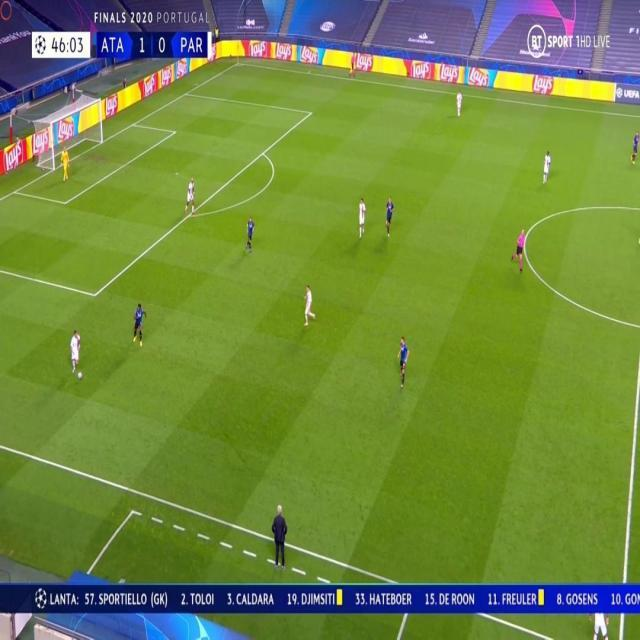ball: (76, 369, 83, 381)
goalkeeper: (60, 143, 70, 181)
player: (131, 300, 147, 348), (397, 334, 411, 388), (69, 326, 83, 377), (302, 281, 315, 325), (383, 193, 395, 236), (184, 175, 196, 216), (356, 194, 367, 238), (541, 147, 552, 185), (245, 214, 255, 252), (631, 128, 639, 164), (455, 84, 464, 116)
referee: (512, 227, 526, 271)
